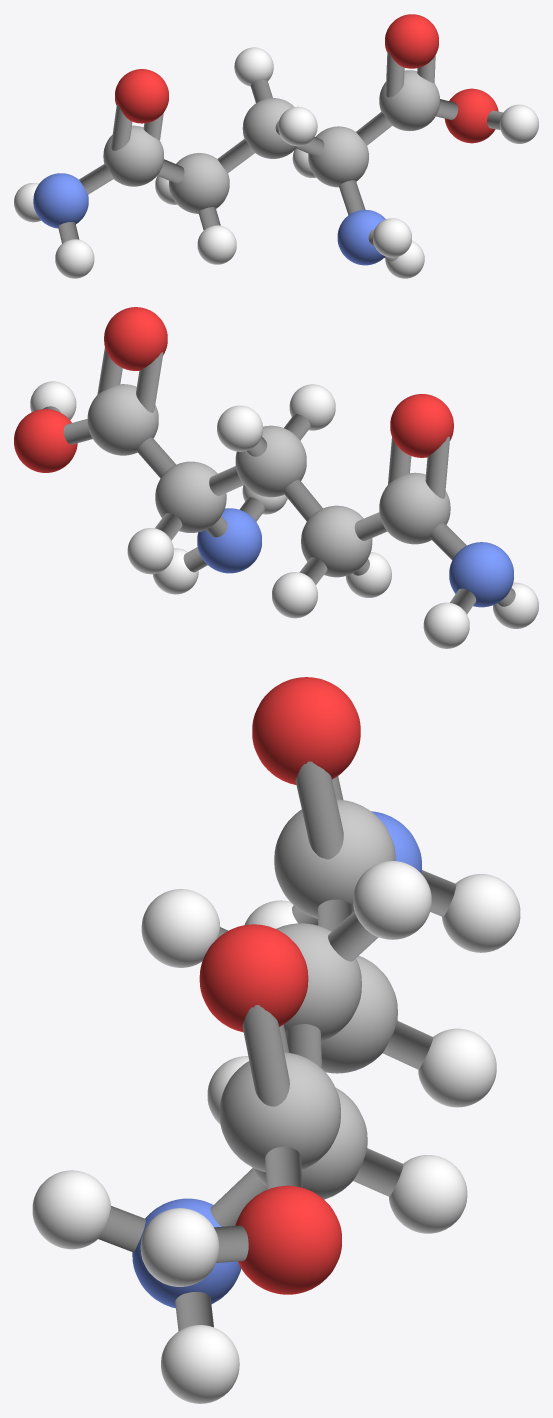
File: glutamine.glb
3 renders of one model, top to bottom at view 1: azimuth 30°, elevation 25°; view 2: azimuth 150°, elevation 25°; view 3: azimuth 270°, elevation 25°, orthographic. The views are drawn at different scales.
Parts seen in each view (by area): view 1: Object_2, Object_5, Object_6, Object_3, Object_4; view 2: Object_2, Object_5, Object_6, Object_3, Object_4; view 3: Object_5, Object_2, Object_3, Object_6, Object_4.
Part boxes in pixels (x1=…): Object_2: x1=103, y1=70, x2=439, y2=213; Object_5: x1=14, y1=47, x2=538, y2=278; Object_6: x1=33, y1=51, x2=503, y2=261; Object_3: x1=115, y1=14, x2=498, y2=143; Object_4: x1=33, y1=173, x2=385, y2=265; Object_2: x1=87, y1=384, x2=450, y2=577; Object_5: x1=30, y1=381, x2=538, y2=648; Object_6: x1=43, y1=348, x2=515, y2=614; Object_3: x1=14, y1=307, x2=453, y2=472; Object_4: x1=197, y1=508, x2=513, y2=607; Object_5: x1=32, y1=861, x2=520, y2=1403; Object_2: x1=219, y1=799, x2=397, y2=1199; Object_3: x1=199, y1=677, x2=360, y2=1294; Object_6: x1=98, y1=761, x2=456, y2=1331; Object_4: x1=132, y1=811, x2=421, y2=1308.
Size of the model in its own units: 8.76 by 4.53 by 4.08.
